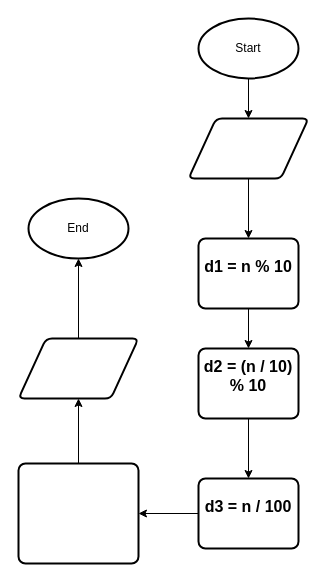
This 326x581 diagram has some shape labels left out. The shapes that lost their labels are listed below. From the top down, each one's centre as x and y in pixels, then its label:
pixel 248 148: Nhập n
pixel 78 368: In ra reverse
pixel 78 513: reverse = d1 * 100 + d2 * 10 + d3
